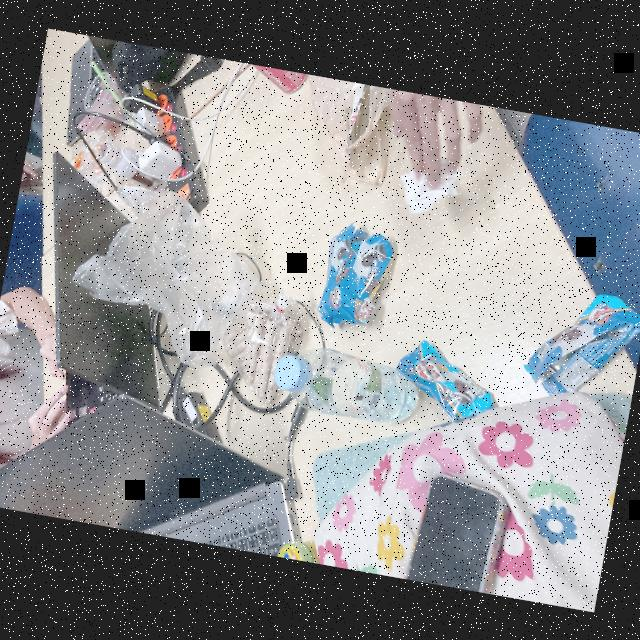can: (239, 62, 312, 104)
plastic_bag: (58, 173, 275, 378), (287, 74, 403, 194)
plastic_bottle: (268, 339, 428, 433), (88, 136, 170, 192)
plastic_bottle_cap: (270, 351, 310, 392)
plastic_cup: (76, 66, 152, 130)
scrap_plastic: (393, 157, 464, 223), (62, 133, 111, 181)
snack_bag: (514, 278, 640, 415), (203, 284, 304, 410), (382, 334, 506, 431), (308, 218, 402, 337)
straw: (80, 59, 135, 114)
